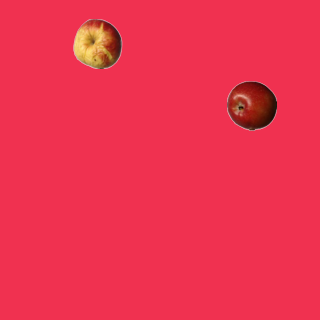Apple Braeburn: (226, 80, 276, 130)
Apple Red Yellow 1: (72, 18, 122, 68)
